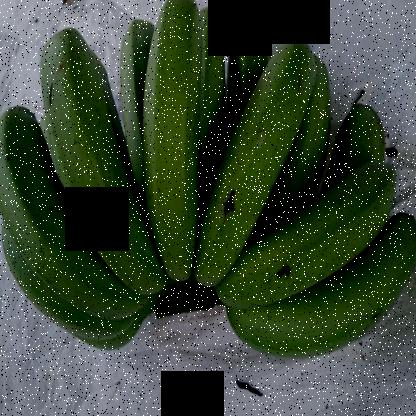freshunripe: (135, 0, 211, 294)
unripe: (32, 16, 157, 303), (1, 101, 134, 338), (196, 33, 317, 280), (222, 149, 401, 315), (235, 219, 415, 366)
